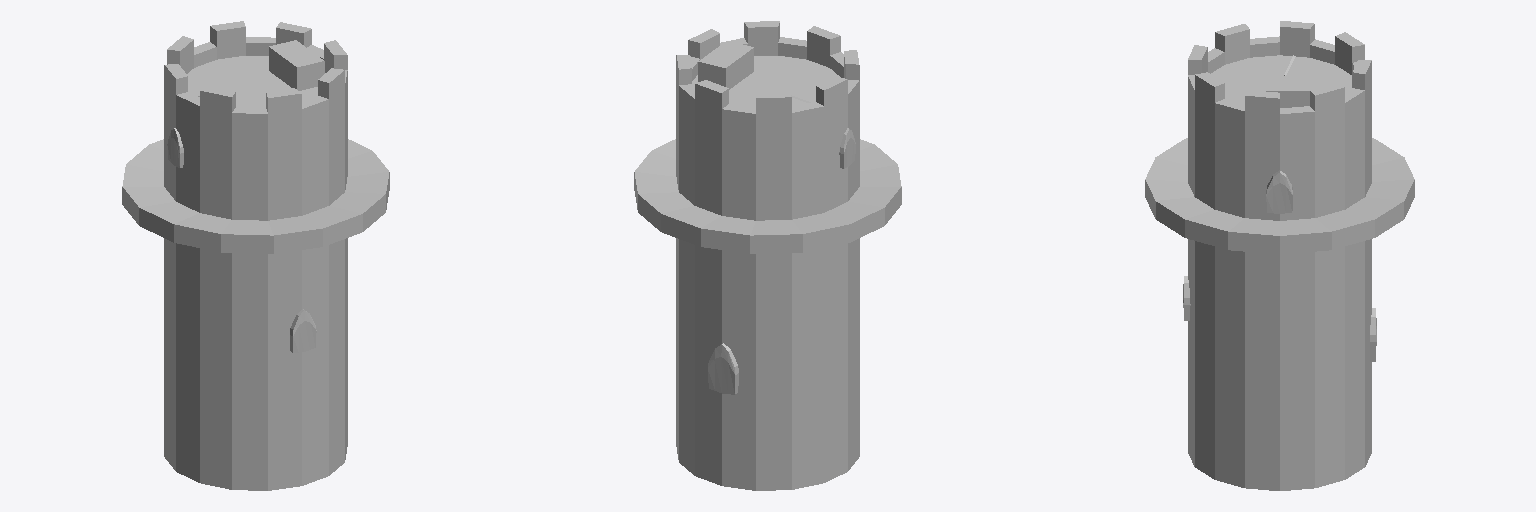
The model's file is tower_0.obj.
3 renders of one model, left to right at view 1: azimuth 30°, elevation 25°; view 2: azimuth 150°, elevation 25°; view 3: azimuth 270°, elevation 25°, orthographic.
Visible parts, largest first — view 1: Cylinder, Cube.001_Cube.002, Cube_Cube.001; view 2: Cylinder, Cube.001_Cube.002, Cube_Cube.001; view 3: Cylinder, Cube_Cube.001, Cube.001_Cube.002.
Boxes of the visible parts, <box> form: Cylinder: <box>122,21,389,490</box>; Cube.001_Cube.002: <box>269,40,324,90</box>; Cube_Cube.001: <box>167,128,316,352</box>; Cylinder: <box>634,21,901,490</box>; Cube.001_Cube.002: <box>698,41,753,89</box>; Cube_Cube.001: <box>708,128,855,394</box>; Cylinder: <box>1145,21,1414,490</box>; Cube_Cube.001: <box>1183,170,1376,361</box>; Cube.001_Cube.002: <box>1252,78,1309,107</box>.
Size of the model in its own units: 140 by 225 by 140.